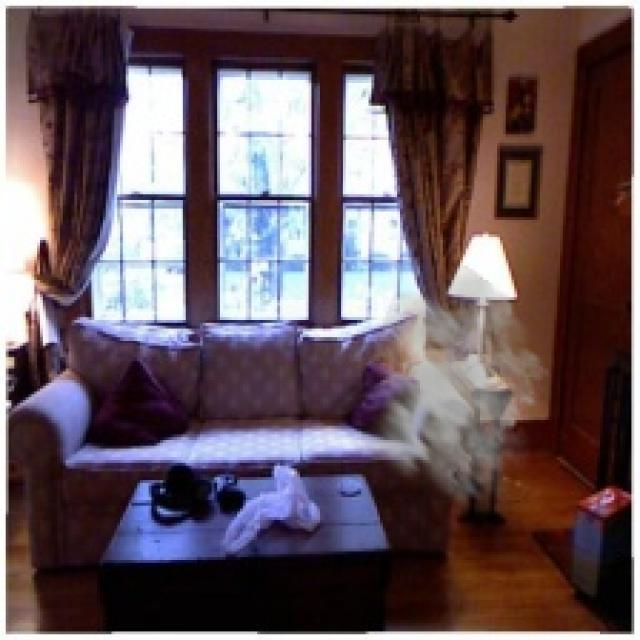Smoke: (339, 254, 552, 517)
